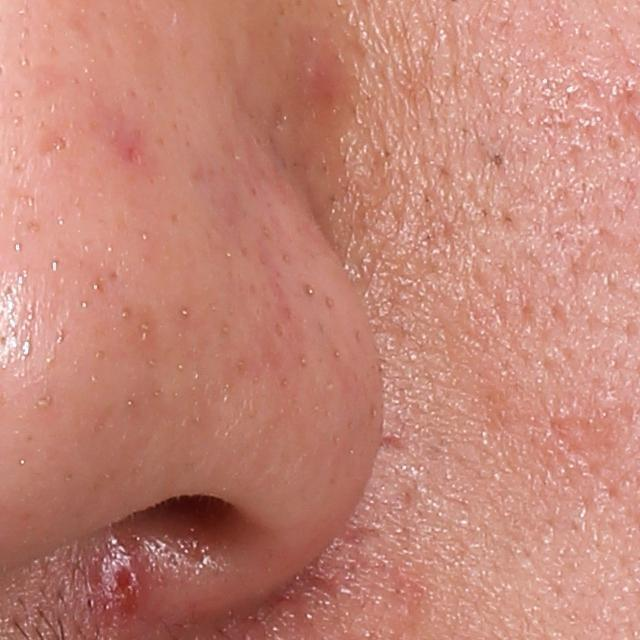atrophic_scar: (547, 407, 621, 473), (34, 125, 70, 159)
papule: (292, 44, 358, 110), (94, 545, 149, 617)
